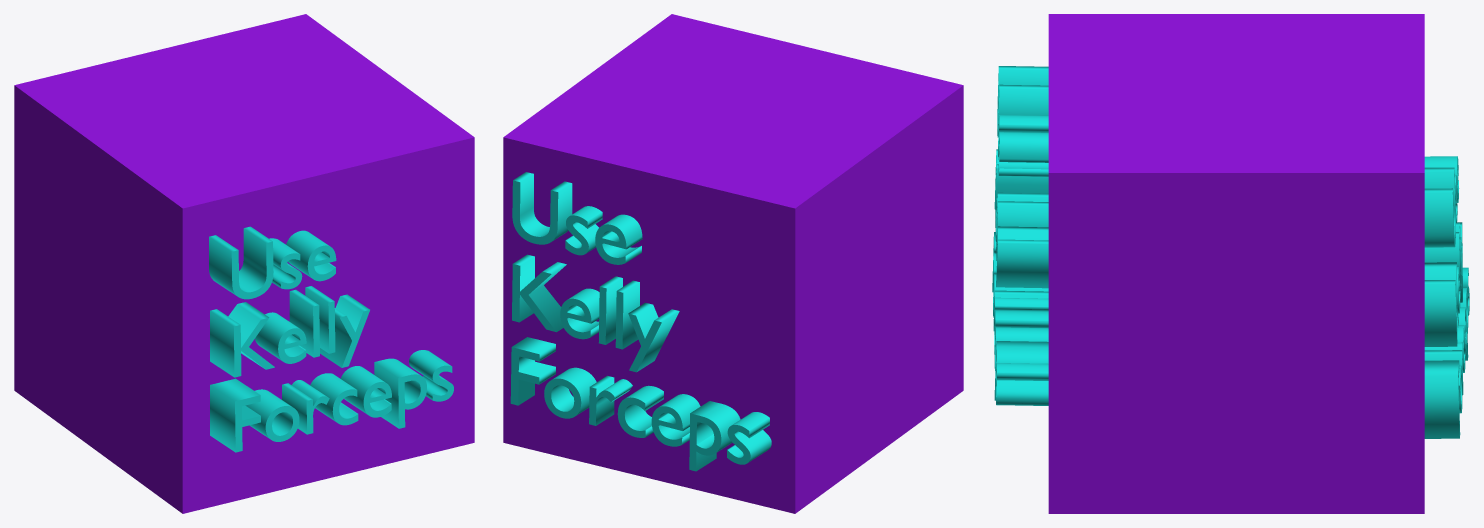
Rendered from usekellyforceps (1).glb.
The picture shows the model from 3 angles, left to right: view 1: azimuth 30°, elevation 25°; view 2: azimuth 150°, elevation 25°; view 3: azimuth 270°, elevation 25°; orthographic projection. The views are drawn at different scales.
Parts seen in each view (by area): view 1: Cube, Text.001; view 2: Cube, Text.002; view 3: Cube, Text.001, Text.002.
Part boxes in pixels (x1,y1,x2,y2): Cube: [14, 14, 474, 513]; Text.001: [209, 226, 453, 452]; Cube: [503, 14, 963, 513]; Text.002: [510, 172, 771, 471]; Cube: [1048, 14, 1424, 513]; Text.001: [992, 66, 1048, 405]; Text.002: [1424, 156, 1469, 438].
Bounding box in the file's own units: 2 × 2 × 2.54.
